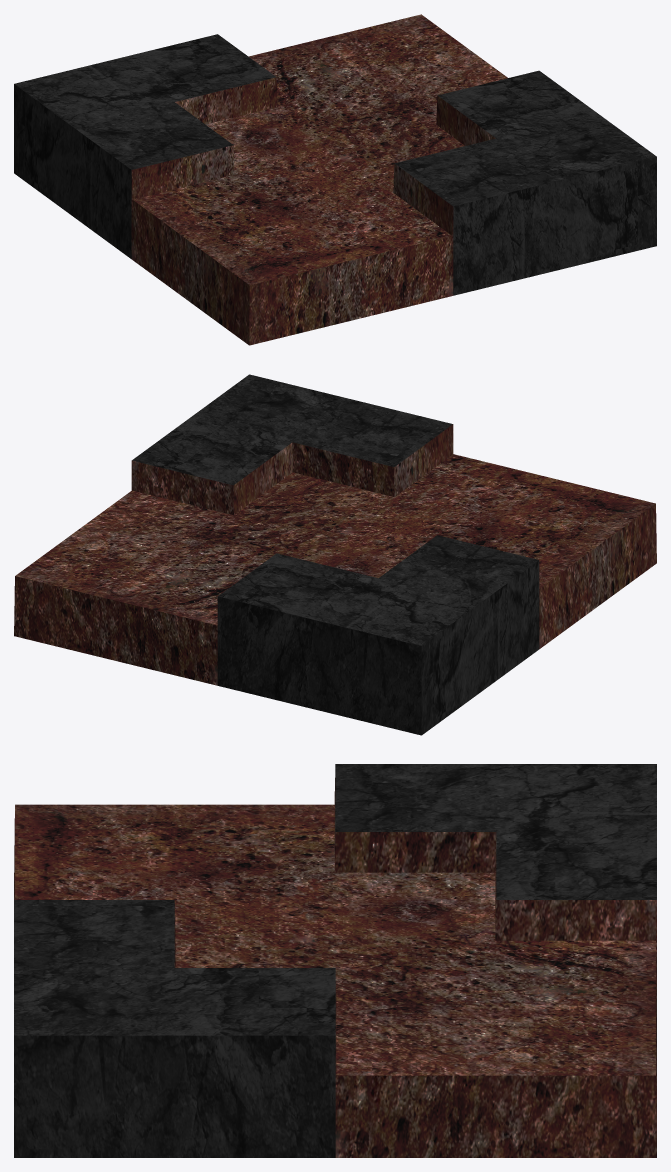
The model's file is EnemyPath32.fbx.
The picture shows the model from 3 angles, top to bottom: view 1: azimuth 30°, elevation 25°; view 2: azimuth 150°, elevation 25°; view 3: azimuth 270°, elevation 25°; orthographic projection. The views are drawn at different scales.
Parts seen in each view (by area): view 1: EnemyPath32; view 2: EnemyPath32; view 3: EnemyPath32.
Part boxes in pixels (x1,y1,x2,y2): EnemyPath32: (14,14,656,345); EnemyPath32: (14,374,656,735); EnemyPath32: (14,764,656,1157).
Size of the model in its own units: 100 by 20.97 by 100.
Materials: 2 (2 with a texture image).
